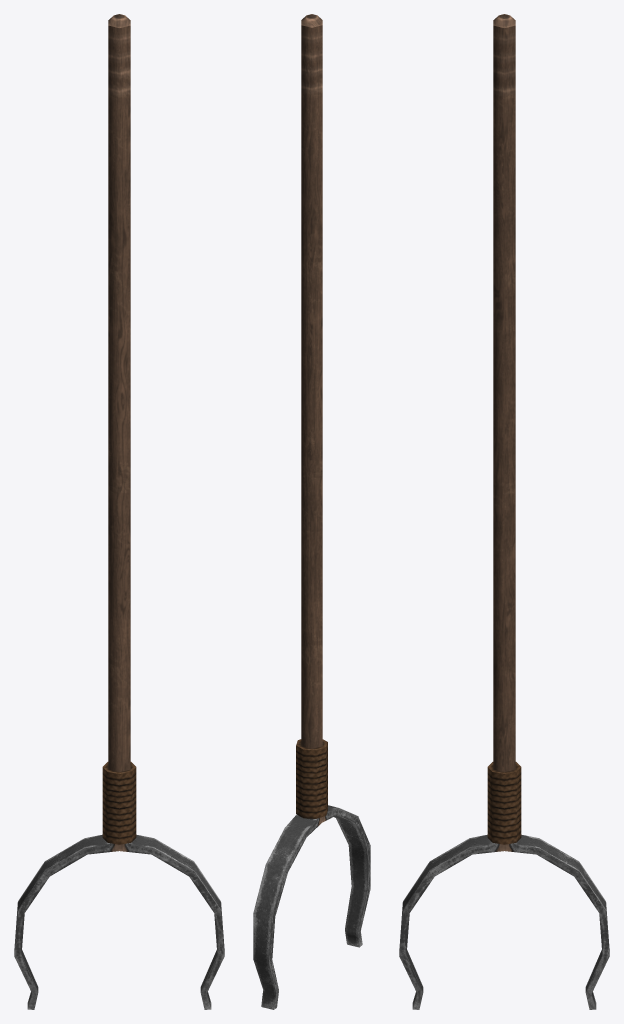
Rendered from LOD1_grip.fbx.
3 views of the same model, side by side, from view 1: azimuth 90°, elevation 25°; view 2: azimuth 150°, elevation 25°; view 3: azimuth 270°, elevation 25° (orthographic). The views are drawn at different scales.
Visible parts, largest first — view 1: LOD1_grip; view 2: LOD1_grip; view 3: LOD1_grip.
Boxes of the visible parts, x1,y1,x2,y2 form: LOD1_grip: [14, 14, 224, 1009]; LOD1_grip: [253, 14, 370, 1009]; LOD1_grip: [399, 14, 609, 1009].
Size of the model in its own units: 0.0473 by 1.52 by 0.2927.
